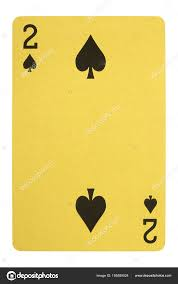two of spades: (12, 15, 164, 253)
